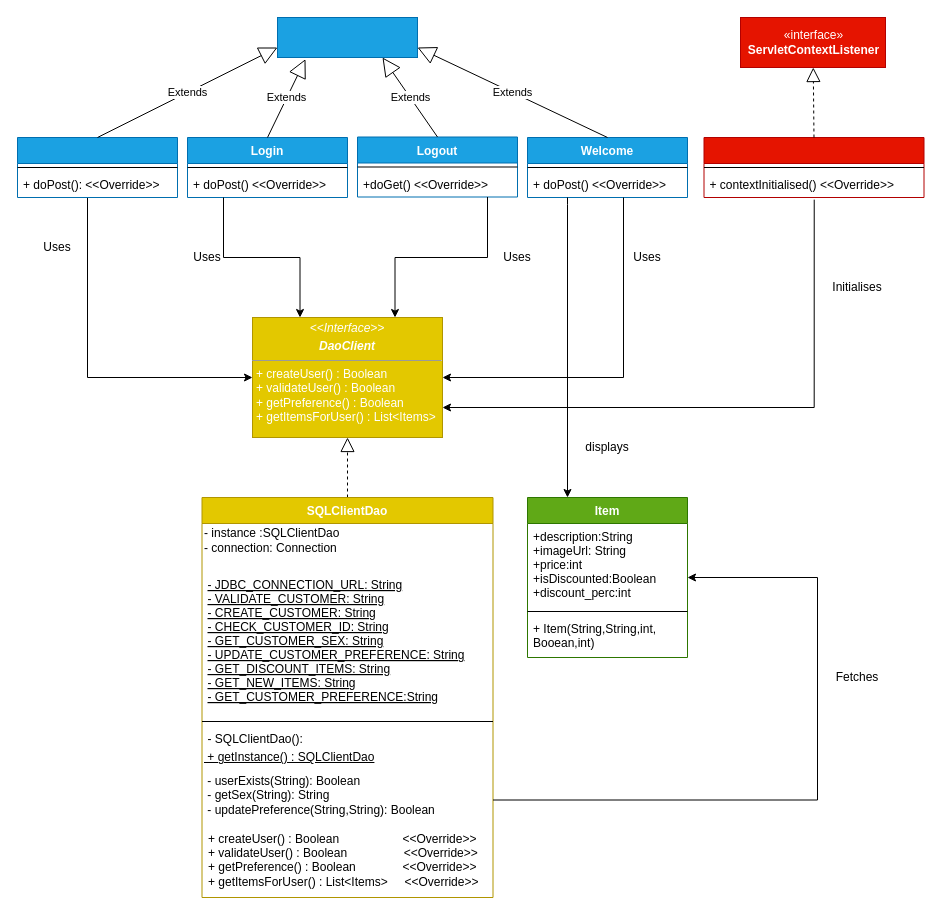
Some shapes in this 942 by 915 pixel diagram are drawn without their labels. Each missing label, with the box of its shape:
ContextListener: (703, 136, 924, 198)
HttpServlet: (276, 16, 418, 58)
SignupServlet: (16, 136, 178, 198)
